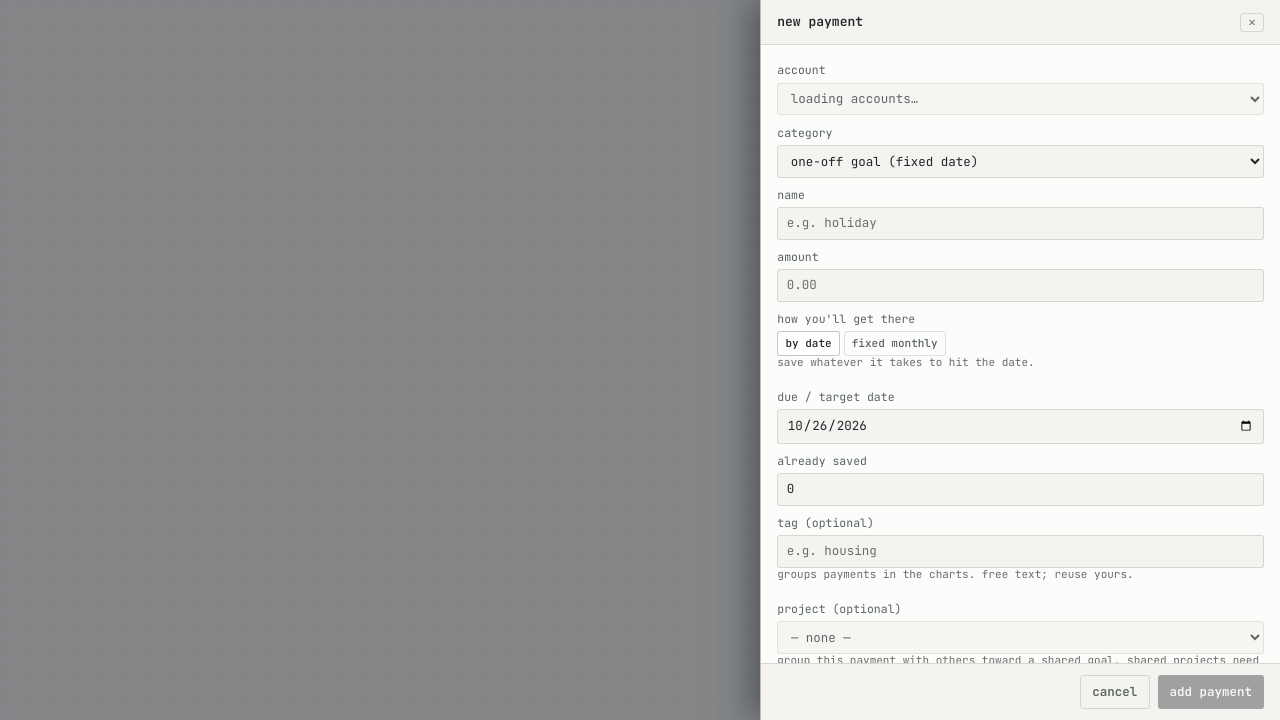
Test: NewPaymentDrawer › hides the due-date field for monthly_recurring and shows the recurrence row for custom
This screenshot has width=1280, height=720.
Expected: the button "add payment" is shown, top-left (1158, 675), bottom-right (1264, 709)
Expected: the date field labelled "due / target date" is shown, top-left (777, 409), bottom-right (1264, 444)
Select "monthly bill" in the dropdown labelled "category": point(1021, 161) top-left (777, 145), bottom-right (1264, 178)
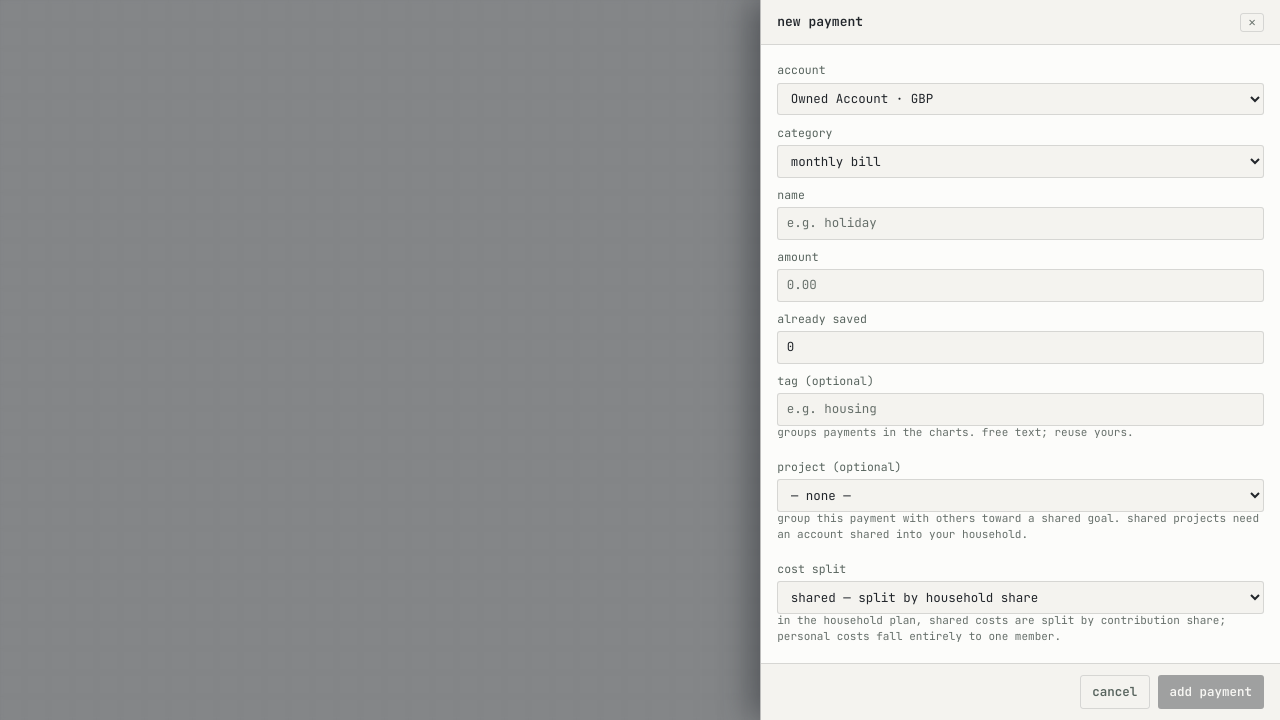
Now the label labelled "due / target date" is gone
Select "custom recurring" in the dropdown labelled "category": point(1021, 161) top-left (777, 145), bottom-right (1264, 178)
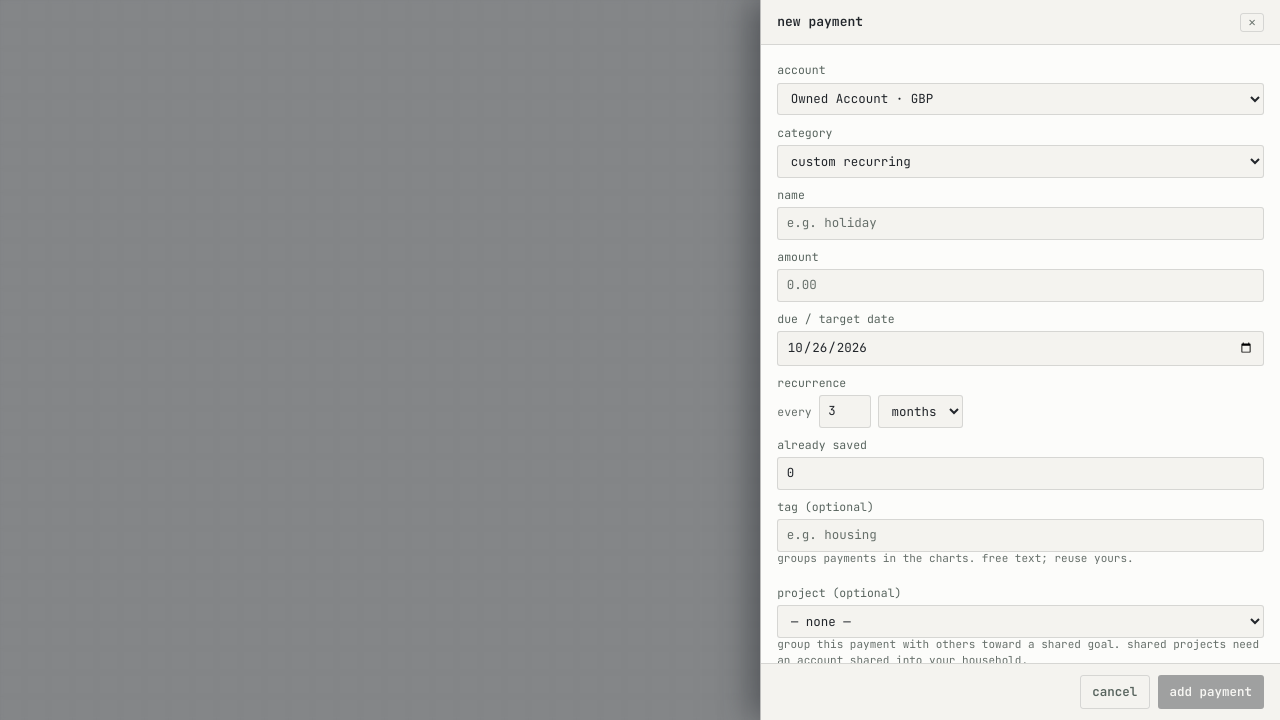
Now the date field labelled "due / target date" is shown, box top-left (777, 331), bottom-right (1264, 366)
Now the text "every" is shown, box top-left (777, 403), bottom-right (812, 420)
